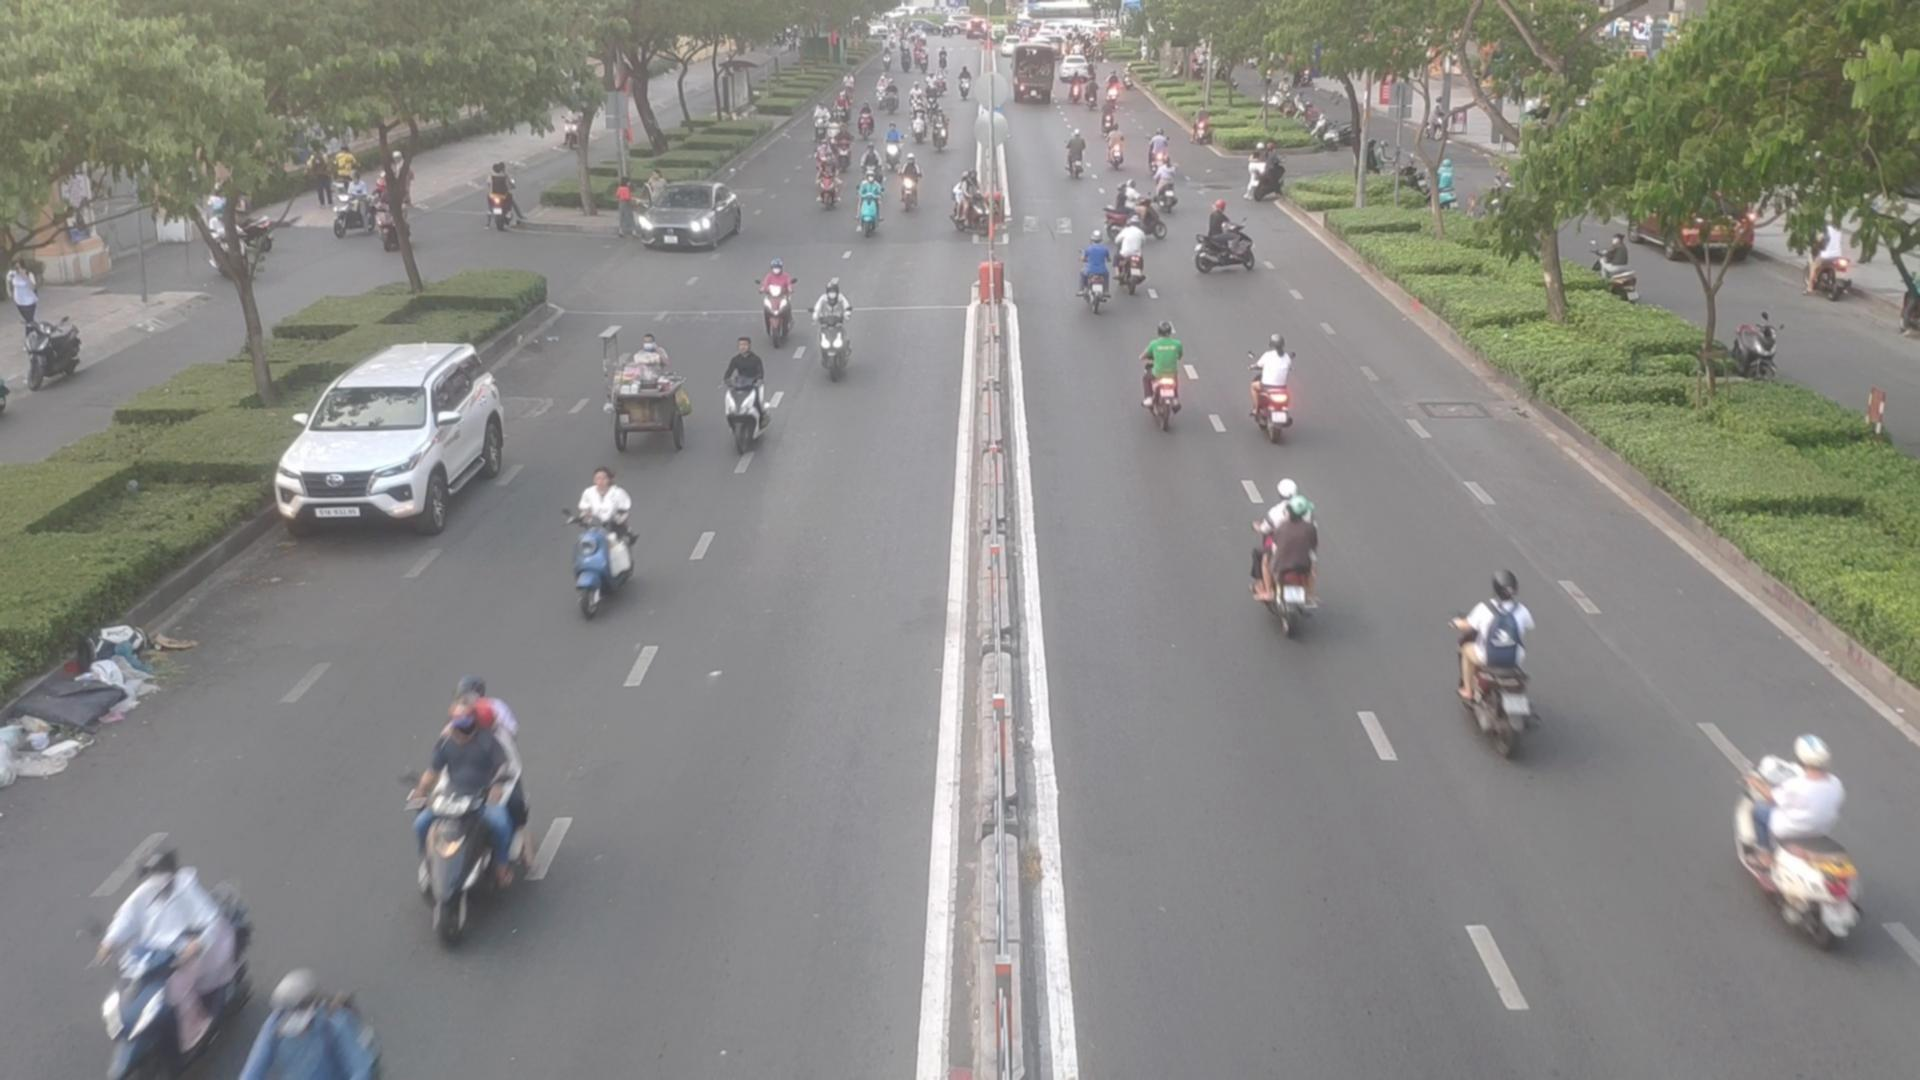car: (278, 345, 520, 535), (618, 189, 752, 255)
motorbike: (86, 837, 255, 1077), (404, 686, 541, 931), (1724, 735, 1859, 951), (1455, 585, 1543, 757), (1245, 488, 1333, 632), (562, 475, 647, 607), (708, 336, 773, 451), (1135, 327, 1199, 426), (808, 282, 868, 378), (1249, 339, 1299, 438), (956, 173, 1015, 244), (1197, 216, 1261, 278), (1072, 240, 1117, 315), (749, 262, 796, 330), (1113, 220, 1153, 286), (1062, 136, 1093, 178)
